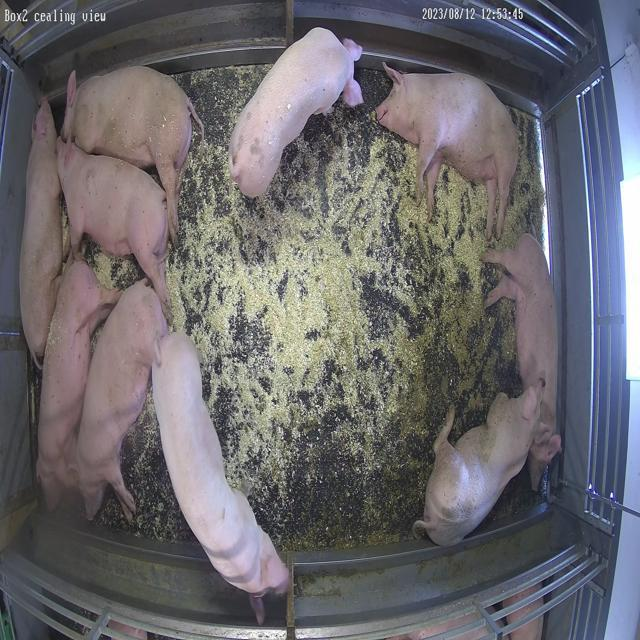Dirt: (397, 262, 524, 457), (295, 437, 435, 550), (495, 470, 545, 518)
Pig: (152, 334, 289, 599), (376, 63, 519, 240), (63, 66, 203, 240), (230, 28, 363, 196), (76, 281, 167, 521), (36, 258, 121, 510), (415, 384, 545, 546), (483, 234, 563, 490), (58, 139, 169, 304), (19, 98, 62, 366)
